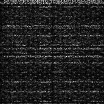lte: (1, 1, 104, 5), (1, 25, 103, 29), (1, 34, 104, 36), (1, 56, 104, 58), (1, 48, 104, 50), (1, 90, 104, 92)
